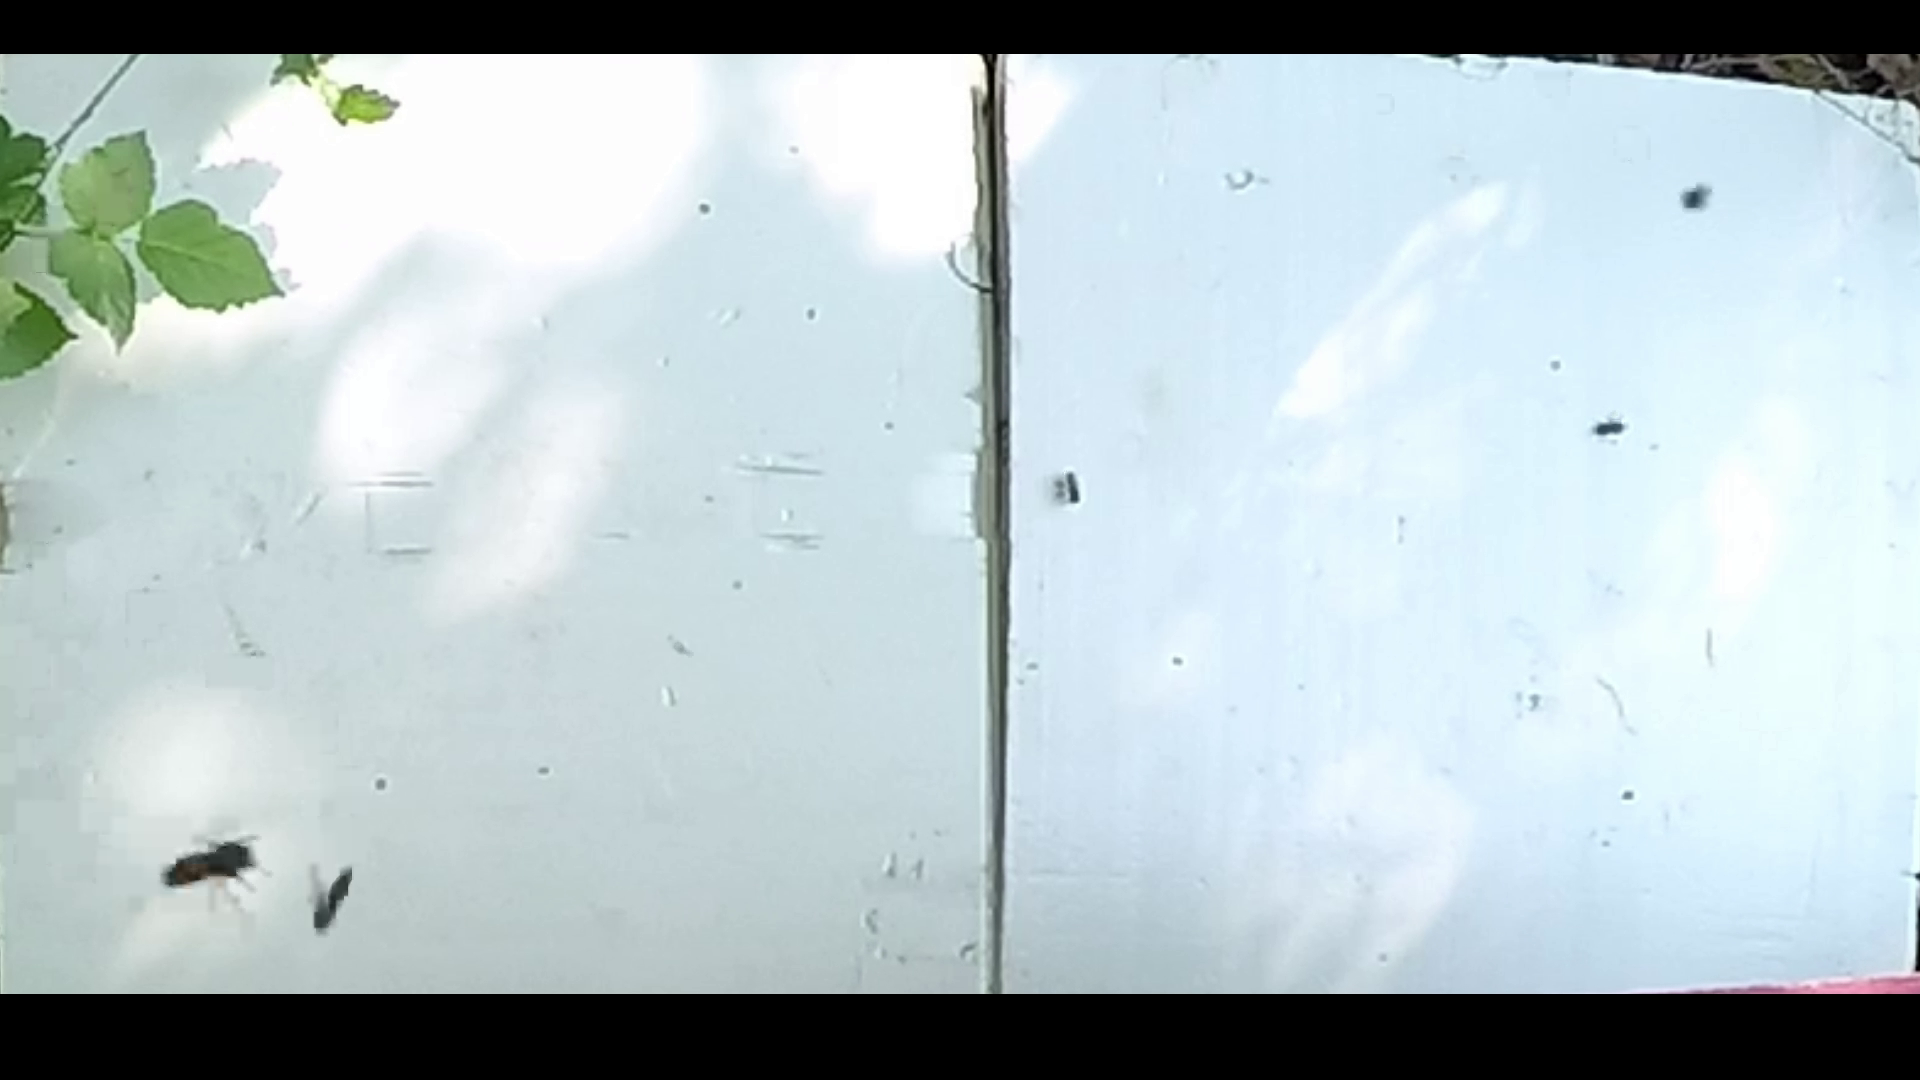Asian_hornets: (145, 800, 290, 927)
